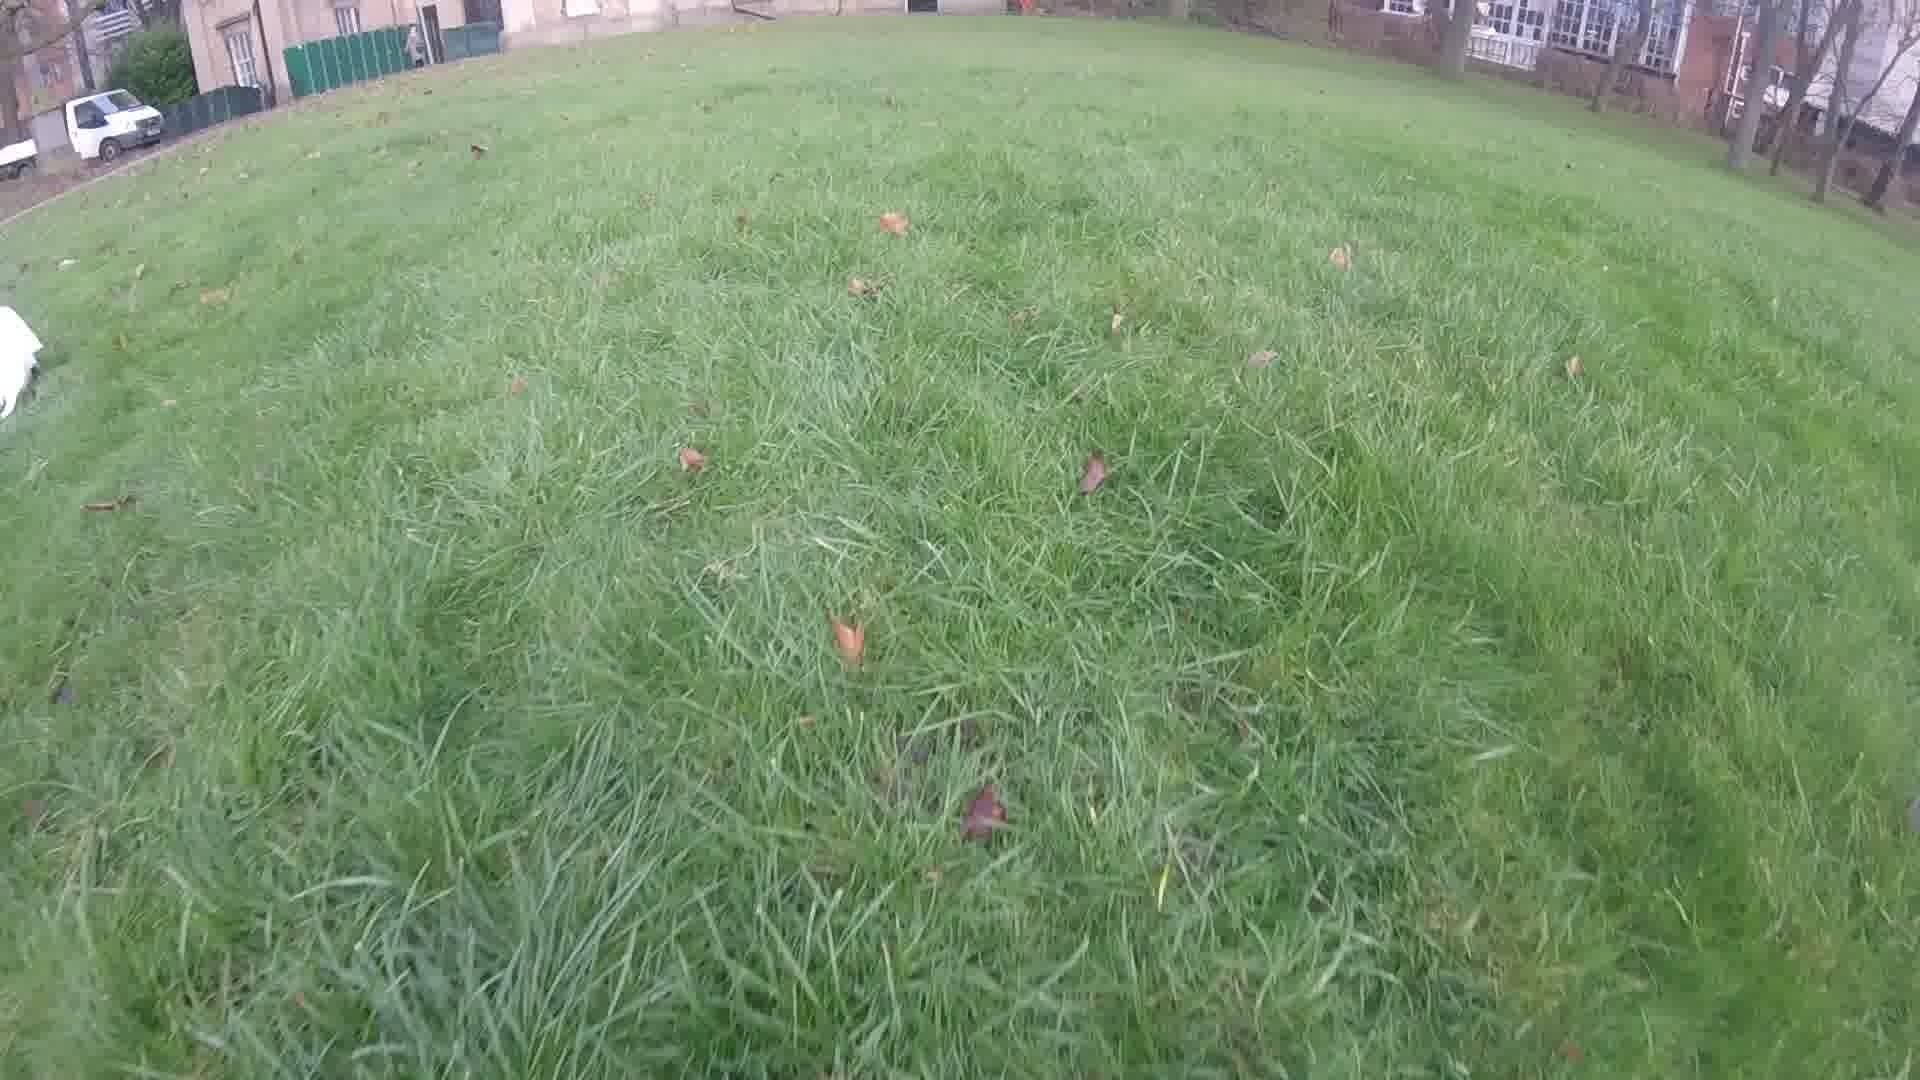litter: (1, 299, 53, 425)
